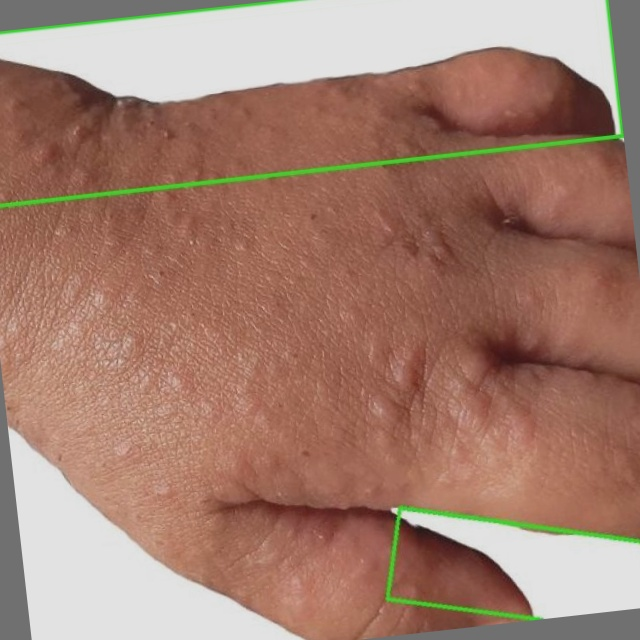Contact Dermatitis: (0, 0, 623, 205), (386, 507, 639, 609)
